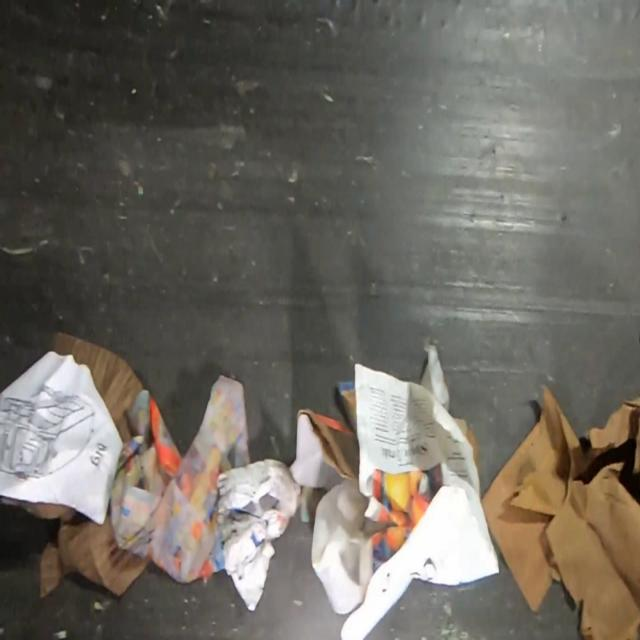cardboard: (50, 330, 145, 442), (37, 510, 150, 599), (287, 407, 360, 491), (0, 495, 76, 523)
soft_plastic: (308, 481, 374, 615)
